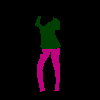pantaloni: (36, 48, 60, 92)
t-shirt: (34, 15, 60, 50)
